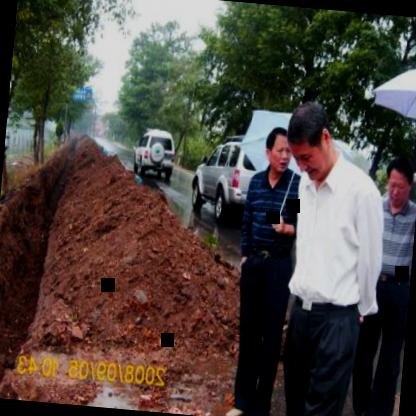head: (284, 95, 342, 178), (380, 153, 416, 216), (260, 127, 294, 180)
